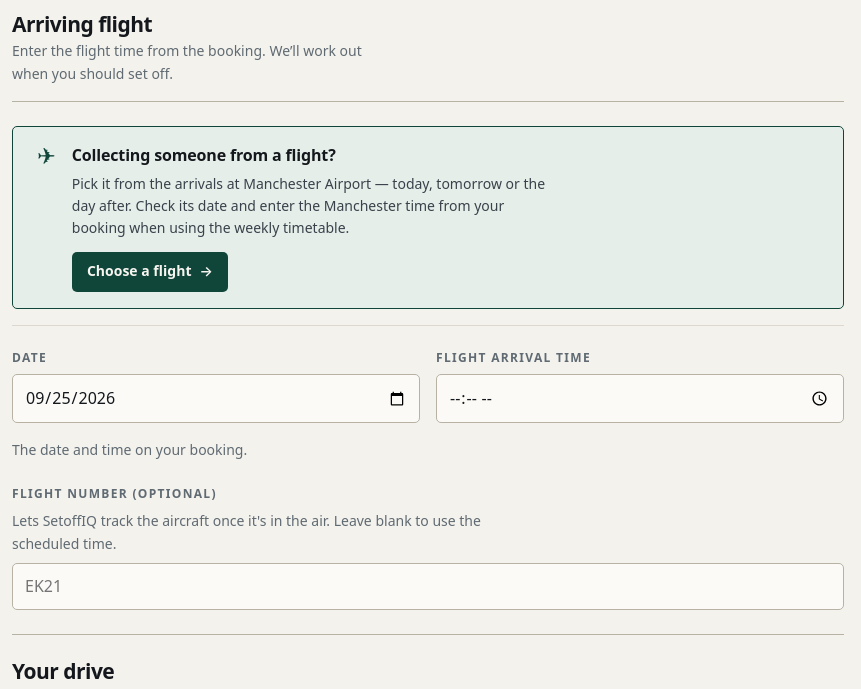
Scenario: choosing a day of the timetable › shows a different list for each day, opened in one click
// One click on the card opens the finder and loads the flights.
Click the button "Collecting someone from a flight" at coordinates (428, 217), box [12,126,844,309]
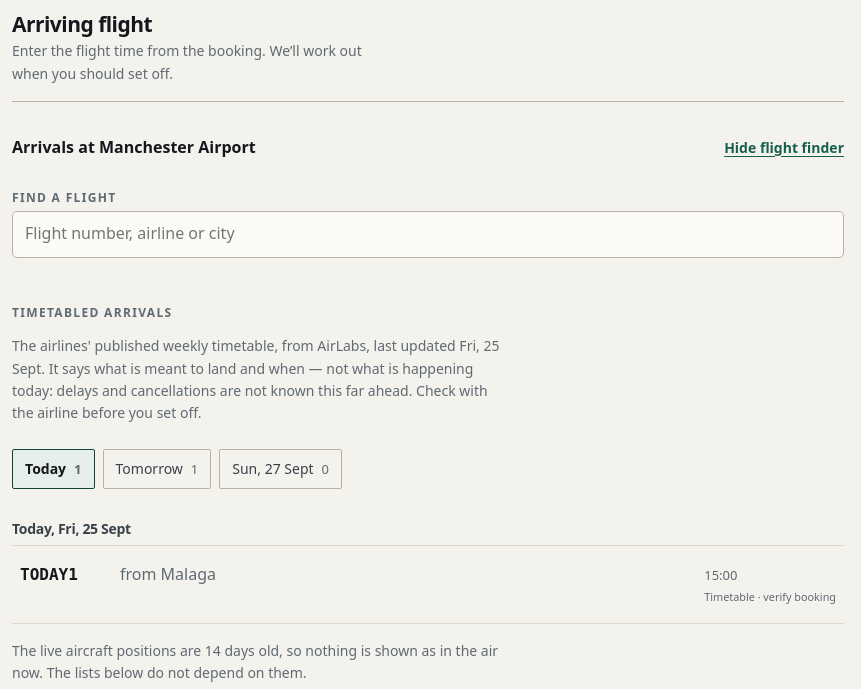
Expected: the button "TMRW1" is not shown
Expected: the button "TODAY1 from Malaga 15:00Timetable · verify booking" is shown, [12,546,844,624]
Click the button "Tomorrow1" at coordinates (157, 469), box [102,449,211,489]
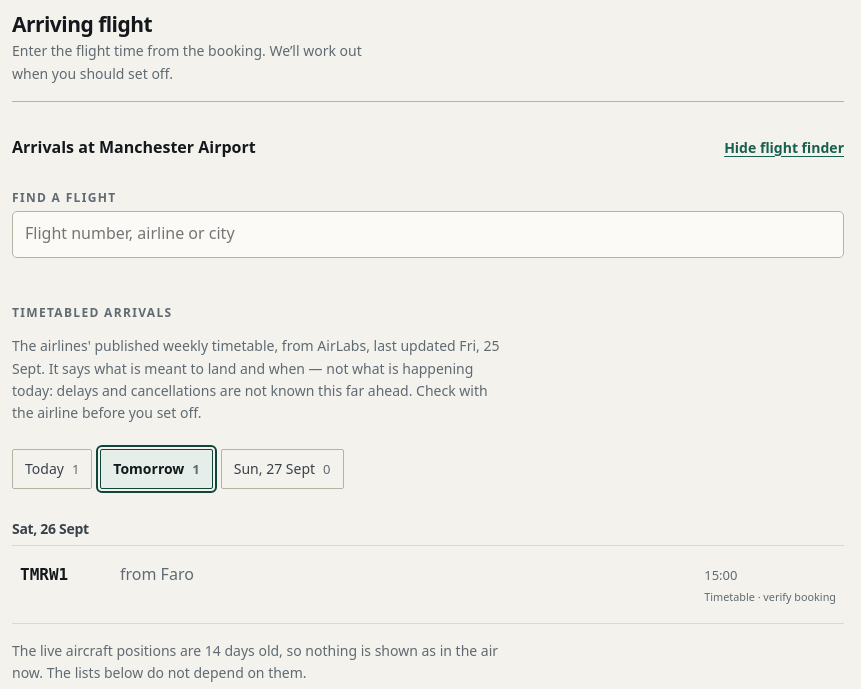
Expected: the button "TODAY1" is not shown
Expected: the button "TMRW1 from Faro 15:00Timetable · verify booking" is shown, [12,546,844,624]
